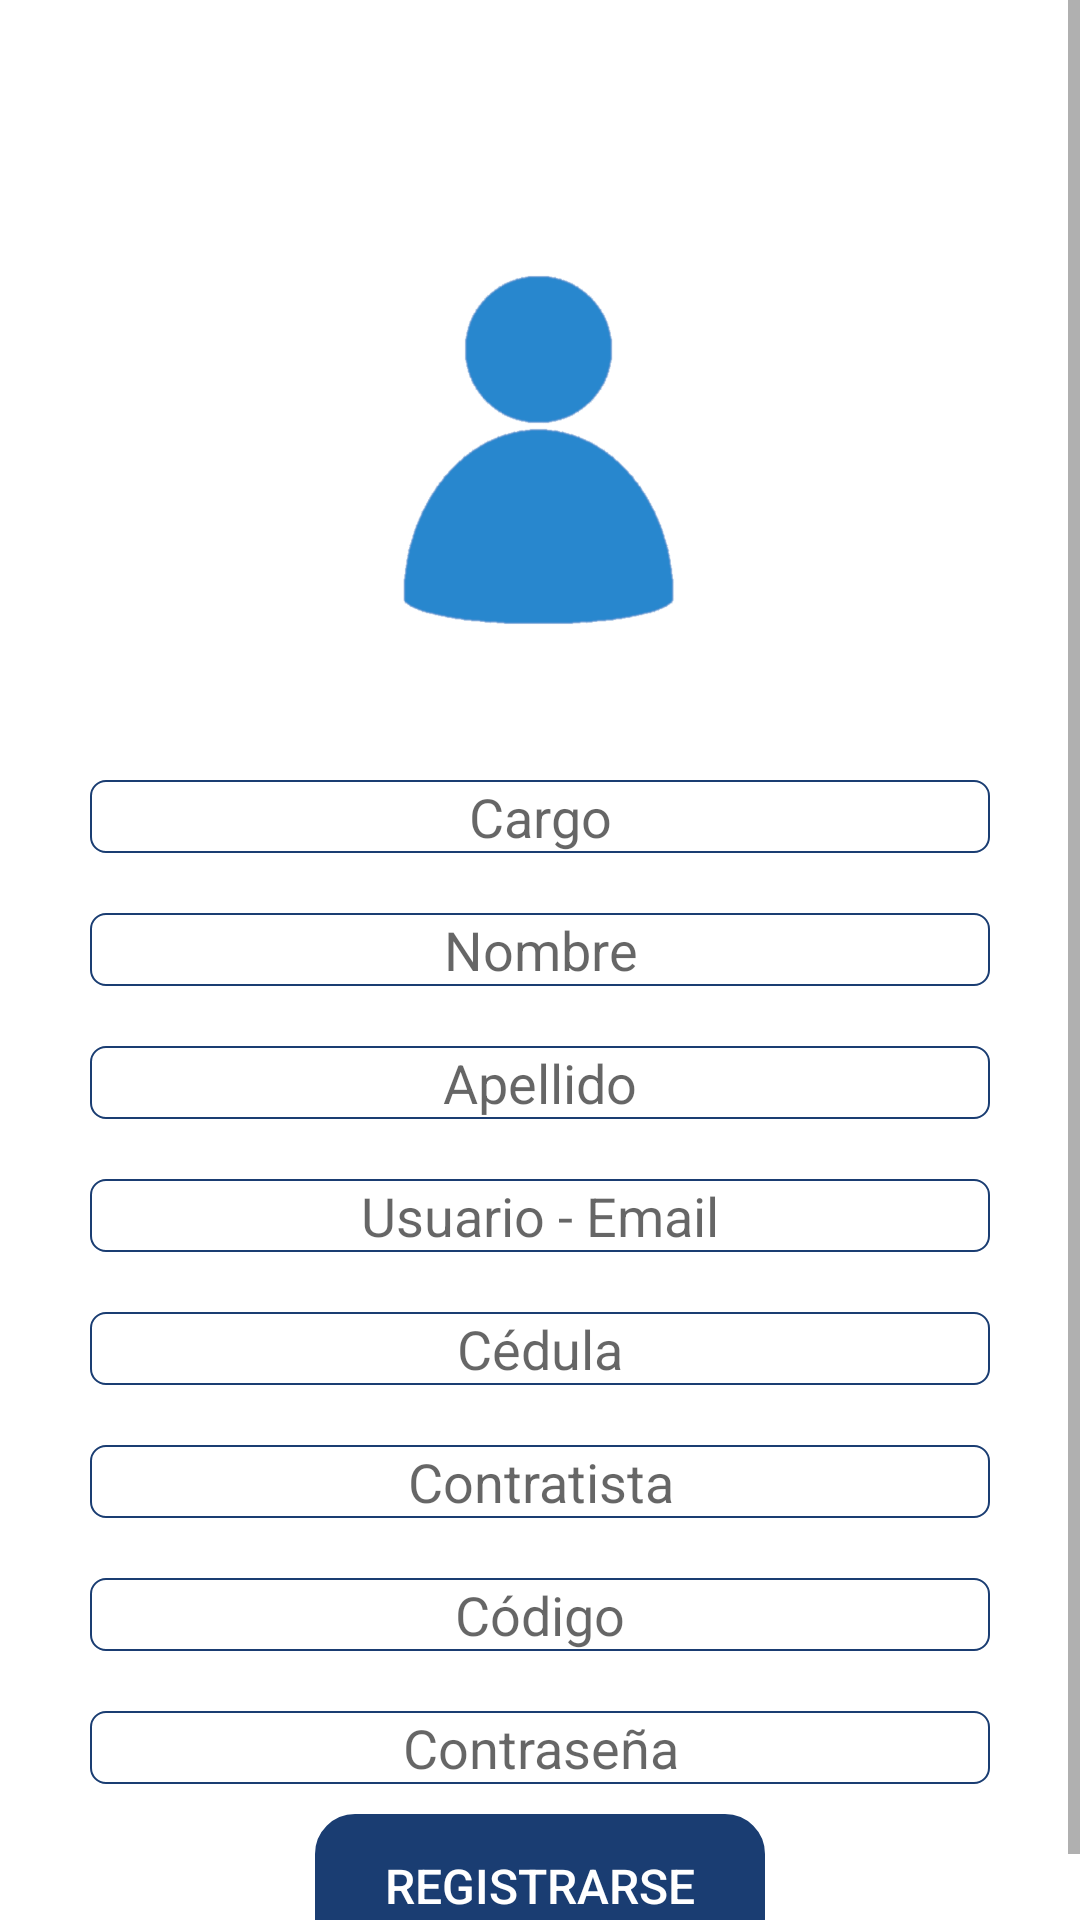

Named icons in this screenshot (1080 × 1920) and their bounding boxes, [x1,y1,x2,y2]:
usuario: [403,276,674,624]
